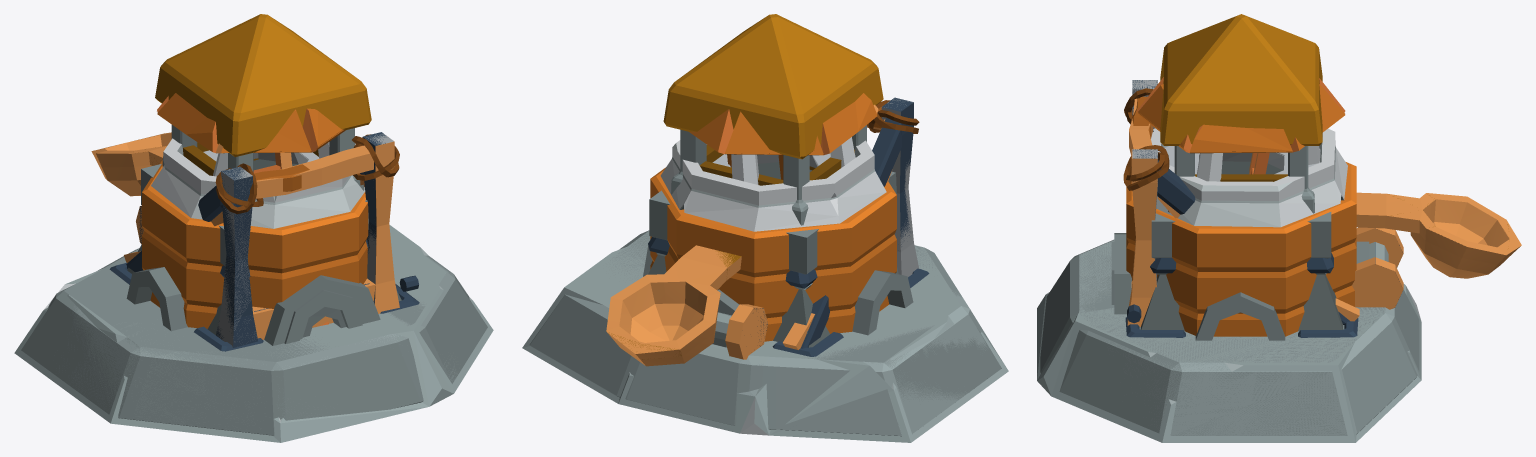
File: Towers.fbx
The picture shows the model from 3 angles, left to right: view 1: azimuth 30°, elevation 25°; view 2: azimuth 150°, elevation 25°; view 3: azimuth 270°, elevation 25°; orthographic projection.
Visible parts, largest first — view 1: T_Tribushette_3, T_Arrow_2, T_Arrow_3, T_Tribushette_1, T_Tribushette_2, T_Spear_3, T_Arrow_1; view 2: T_Tribushette_2, T_Arrow_2, T_Arrow_3, T_Tribushette_3, T_Tribushette_1, T_Spear_3, T_Arrow_1; view 3: T_Tribushette_2, T_Arrow_2, T_Arrow_3, T_Tribushette_3, T_Tribushette_1, T_Spear_3, T_Arrow_1.
Boxes of the visible parts, <box> form: T_Tribushette_3: <box>21,132,487,435</box>; T_Arrow_2: <box>142,93,368,337</box>; T_Arrow_3: <box>141,14,380,345</box>; T_Tribushette_1: <box>14,133,493,442</box>; T_Tribushette_2: <box>34,132,459,425</box>; T_Spear_3: <box>109,239,419,351</box>; T_Arrow_1: <box>157,110,348,325</box>; T_Tribushette_2: <box>529,98,1002,436</box>; T_Arrow_2: <box>650,93,896,341</box>; T_Arrow_3: <box>649,14,896,274</box>; T_Tribushette_3: <box>609,97,1001,434</box>; T_Tribushette_1: <box>522,126,1008,442</box>; T_Spear_3: <box>643,237,929,356</box>; T_Arrow_1: <box>672,110,878,212</box>; T_Tribushette_2: <box>1079,80,1521,435</box>; T_Arrow_2: <box>1126,77,1356,336</box>; T_Arrow_3: <box>1114,14,1331,314</box>; T_Tribushette_3: <box>1040,80,1508,435</box>; T_Tribushette_1: <box>1037,98,1509,442</box>; T_Spear_3: <box>1111,241,1369,340</box>; T_Arrow_1: <box>1137,111,1345,200</box>.
Bounding box in the file's own units: 638 × 589 × 696.
